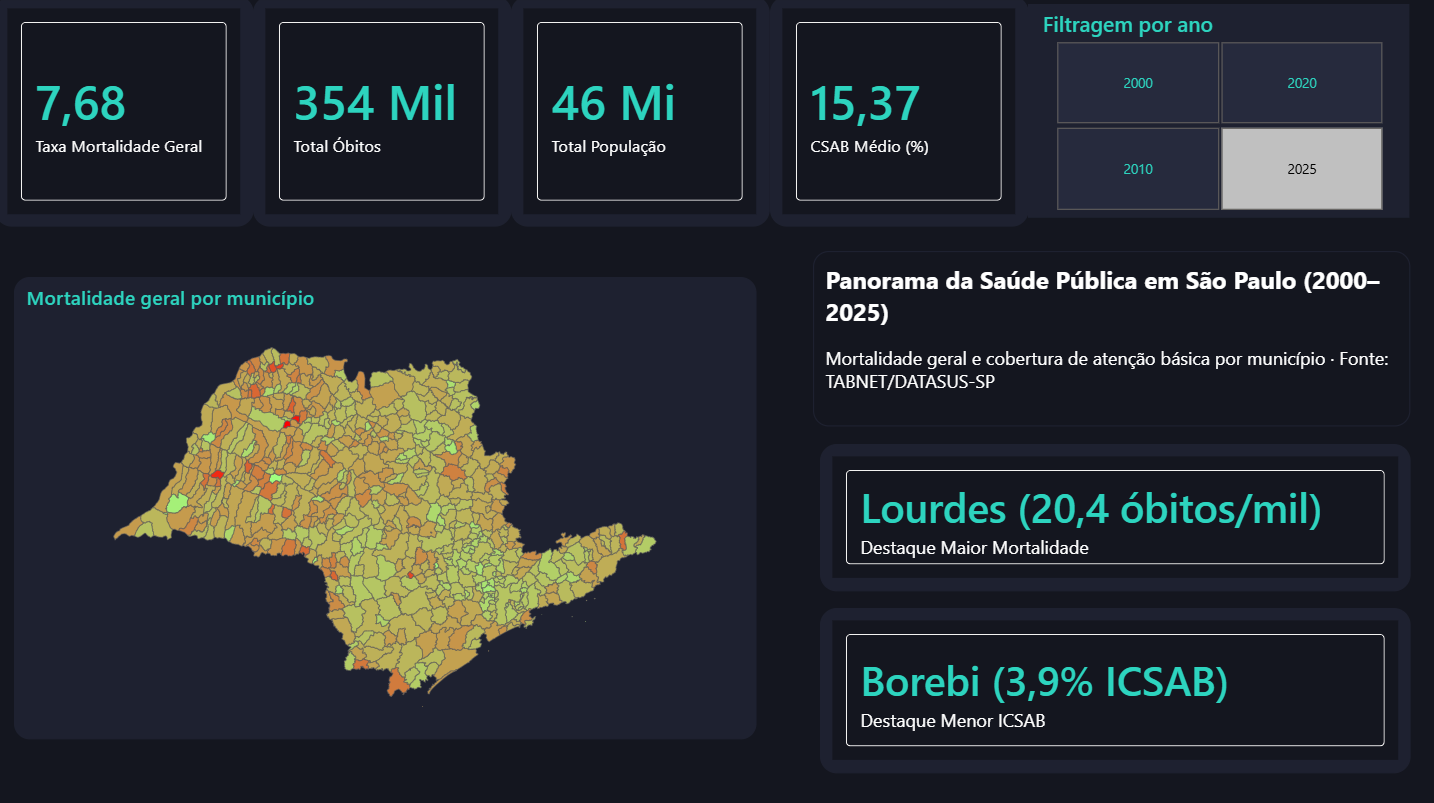

The page's visual inventory and layout, read from the dashboard file:
{"tool":"powerbi","page":{"name":"Visão Geral","canvas":[1280,720],"ordinal":0},"visuals":[{"type":"cardVisual","fields":{"Data":["dataset_final_projeto_saude_sp_BR_1.Taxa Mortalidade Geral"]},"box":[0,0,229.5,205.2],"z":0},{"type":"cardVisual","fields":{"Data":["dataset_final_projeto_saude_sp_BR_1.Total Óbitos"]},"box":[229.5,0,229.5,205.2],"z":1000},{"type":"cardVisual","fields":{"Data":["dataset_final_projeto_saude_sp_BR_1.Total População"]},"box":[459.1,0,229.5,205.2],"z":2000},{"type":"cardVisual","fields":{"Data":["dataset_final_projeto_saude_sp_BR_1.CSAB Médio (%)"]},"box":[688.6,0,229.5,205.2],"z":3000},{"type":"slicer","title":"Filtragem por ano","fields":{"Values":["dataset_final_projeto_saude_sp_BR_1.ano"]},"box":[918.2,7.1,339.5,189.7],"z":4000},{"type":"shapeMap","title":"Mortalidade geral por município","fields":{"Category":["dataset_final_projeto_saude_sp_BR_1.municipio_mapa"],"Value":["Sum(dataset_final_projeto_saude_sp_BR_1.taxa_mortalidade_por_mil)"]},"box":[16.9,249.8,659.6,410.7],"z":5000},{"type":"textbox","box":[727.1,226.7,530.7,156.4],"z":6000},{"type":"cardVisual","fields":{"Data":["dataset_final_projeto_saude_sp_BR_1.Destaque Maior Mortalidade"]},"box":[733.3,398.2,525,130.7],"z":7000},{"type":"cardVisual","fields":{"Data":["dataset_final_projeto_saude_sp_BR_1.Destaque Menor ICSAB"]},"box":[733.3,544,525,146.7],"z":8000}]}

Visuals, with their boxes in screenshot pixels (x1, y1, x2, y2), scaled from the page's 1280x720 canvas onto the 1434x803 screenshot:
cardVisual - dataset_final_projeto_saude_sp_BR_1.Taxa Mortalidade Geral: box=[0, 0, 257, 229]
cardVisual - dataset_final_projeto_saude_sp_BR_1.Total Óbitos: box=[257, 0, 514, 229]
cardVisual - dataset_final_projeto_saude_sp_BR_1.Total População: box=[514, 0, 771, 229]
cardVisual - dataset_final_projeto_saude_sp_BR_1.CSAB Médio (%): box=[771, 0, 1029, 229]
"Filtragem por ano" slicer: box=[1029, 8, 1409, 219]
"Mortalidade geral por município" shapeMap: box=[19, 279, 758, 737]
textbox: box=[815, 253, 1409, 427]
cardVisual - dataset_final_projeto_saude_sp_BR_1.Destaque Maior Mortalidade: box=[822, 444, 1410, 590]
cardVisual - dataset_final_projeto_saude_sp_BR_1.Destaque Menor ICSAB: box=[822, 607, 1410, 770]
